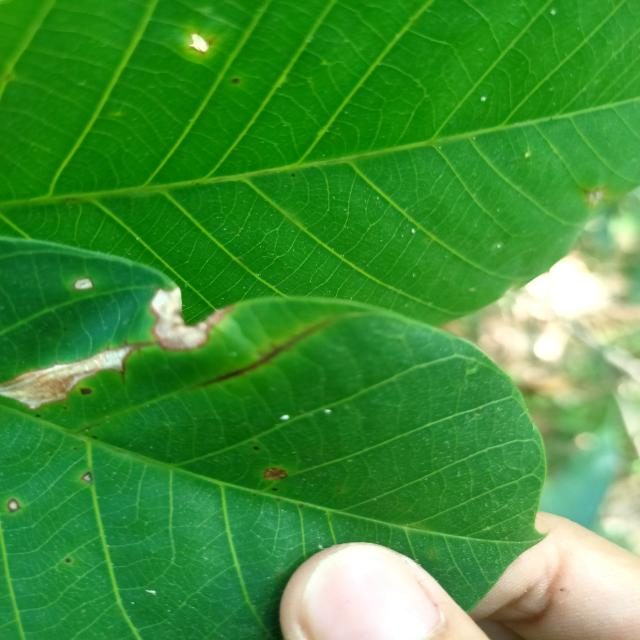Colletotrichum: (7, 498, 21, 513), (81, 471, 92, 483), (80, 388, 91, 395), (231, 78, 239, 84), (66, 558, 72, 563), (272, 487, 278, 491), (253, 446, 259, 450), (292, 174, 296, 177)
Corynespora: (196, 320, 330, 388)
Leaf-Blight: (0, 347, 132, 409), (151, 286, 233, 351), (74, 278, 92, 290)
